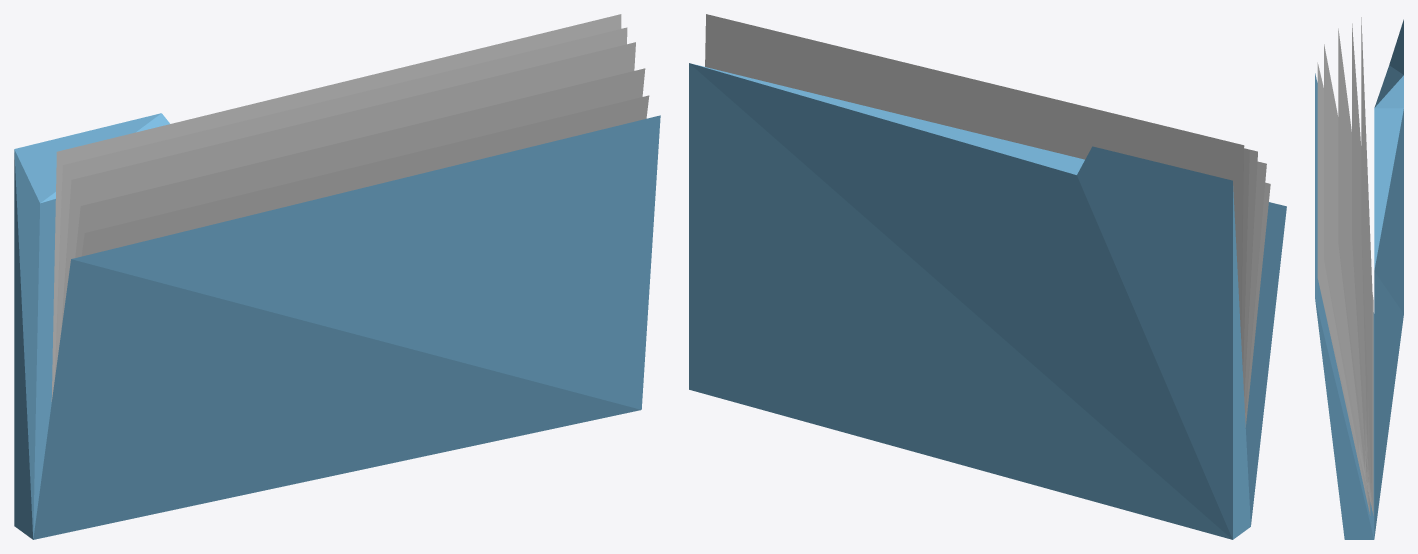
The model's file is full_folder.fbx.
The picture shows the model from 3 angles, left to right: view 1: azimuth 30°, elevation 25°; view 2: azimuth 150°, elevation 25°; view 3: azimuth 270°, elevation 25°; orthographic projection. The views are drawn at different scales.
Visible parts, largest first — view 1: folder2; view 2: folder2; view 3: folder2.
Part boxes in pixels (x1,y1,x2,y2): folder2: (14,14,660,539); folder2: (689,14,1286,539); folder2: (1315,17,1403,539).
Size of the model in its own units: 0.18 by 0.1139 by 0.03.
